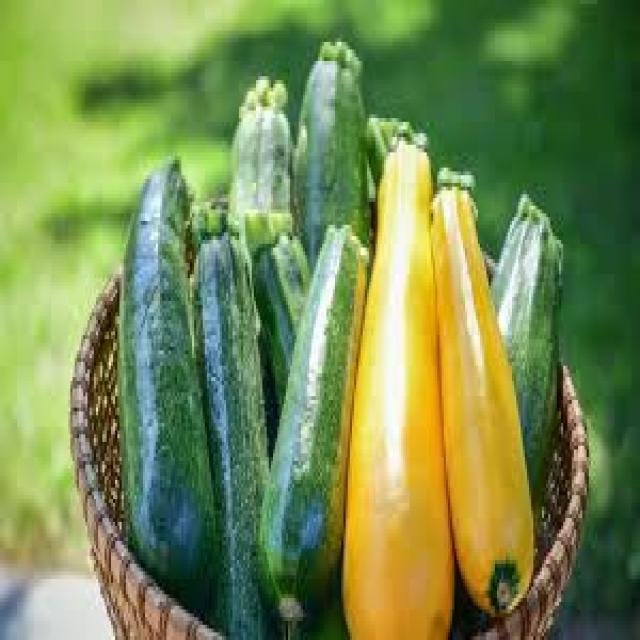Zucchini: (194, 236, 276, 628)
